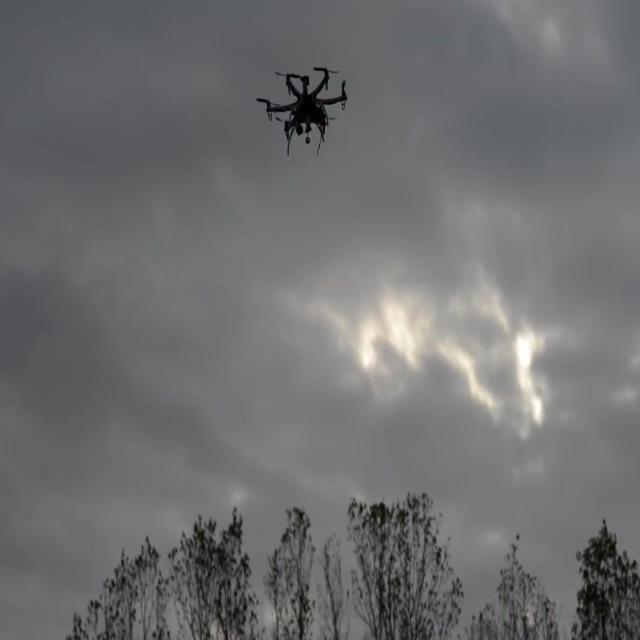drone: (255, 62, 349, 159)
